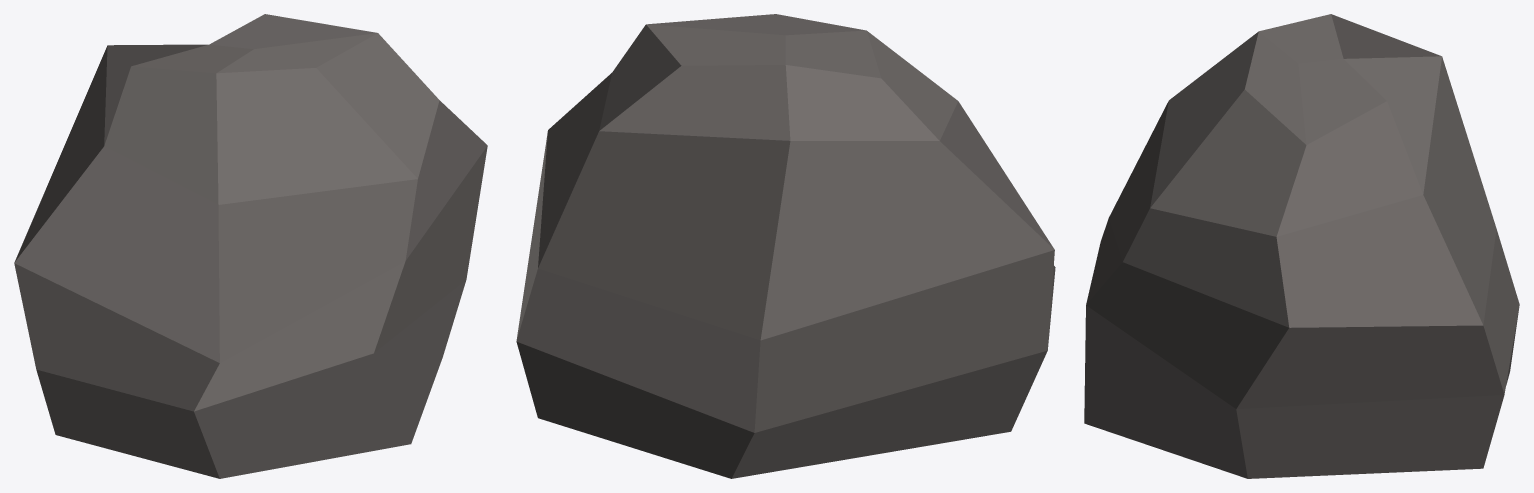
File: MedRock.glb
3 views of the same model, side by side, from view 1: azimuth 30°, elevation 25°; view 2: azimuth 150°, elevation 25°; view 3: azimuth 270°, elevation 25° (orthographic). The views are drawn at different scales.
Visible parts, largest first — view 1: pSphere11; view 2: pSphere11; view 3: pSphere11.
Boxes of the visible parts, x1=… form: pSphere11: x1=14, y1=14, x2=487, y2=478; pSphere11: x1=516, y1=14, x2=1055, y2=478; pSphere11: x1=1084, y1=14, x2=1519, y2=478.
Bounding box in the file's own units: 0.2365 × 0.1585 × 0.1848.
1 material, 1 textured.
